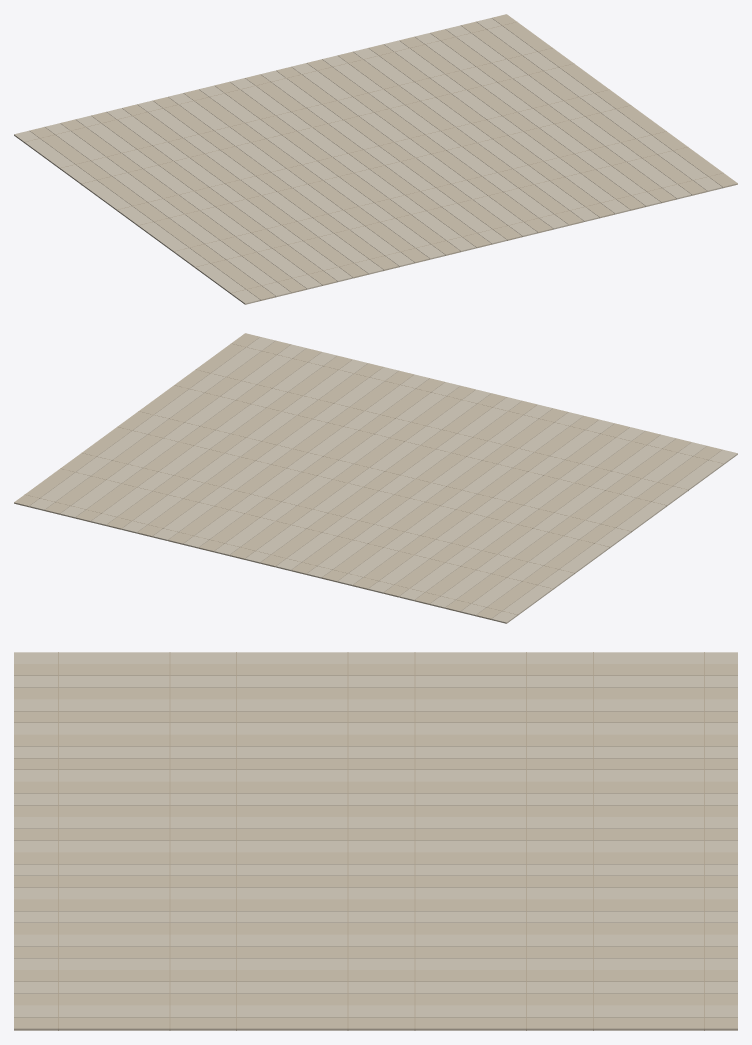
Rendered from home_floor_boards_s3__birch.glb.
The picture shows the model from 3 angles, top to bottom: view 1: azimuth 30°, elevation 25°; view 2: azimuth 150°, elevation 25°; view 3: azimuth 270°, elevation 25°; orthographic projection. The views are drawn at different scales.
Size of the model in its own units: 16 by 0.042 by 13.
